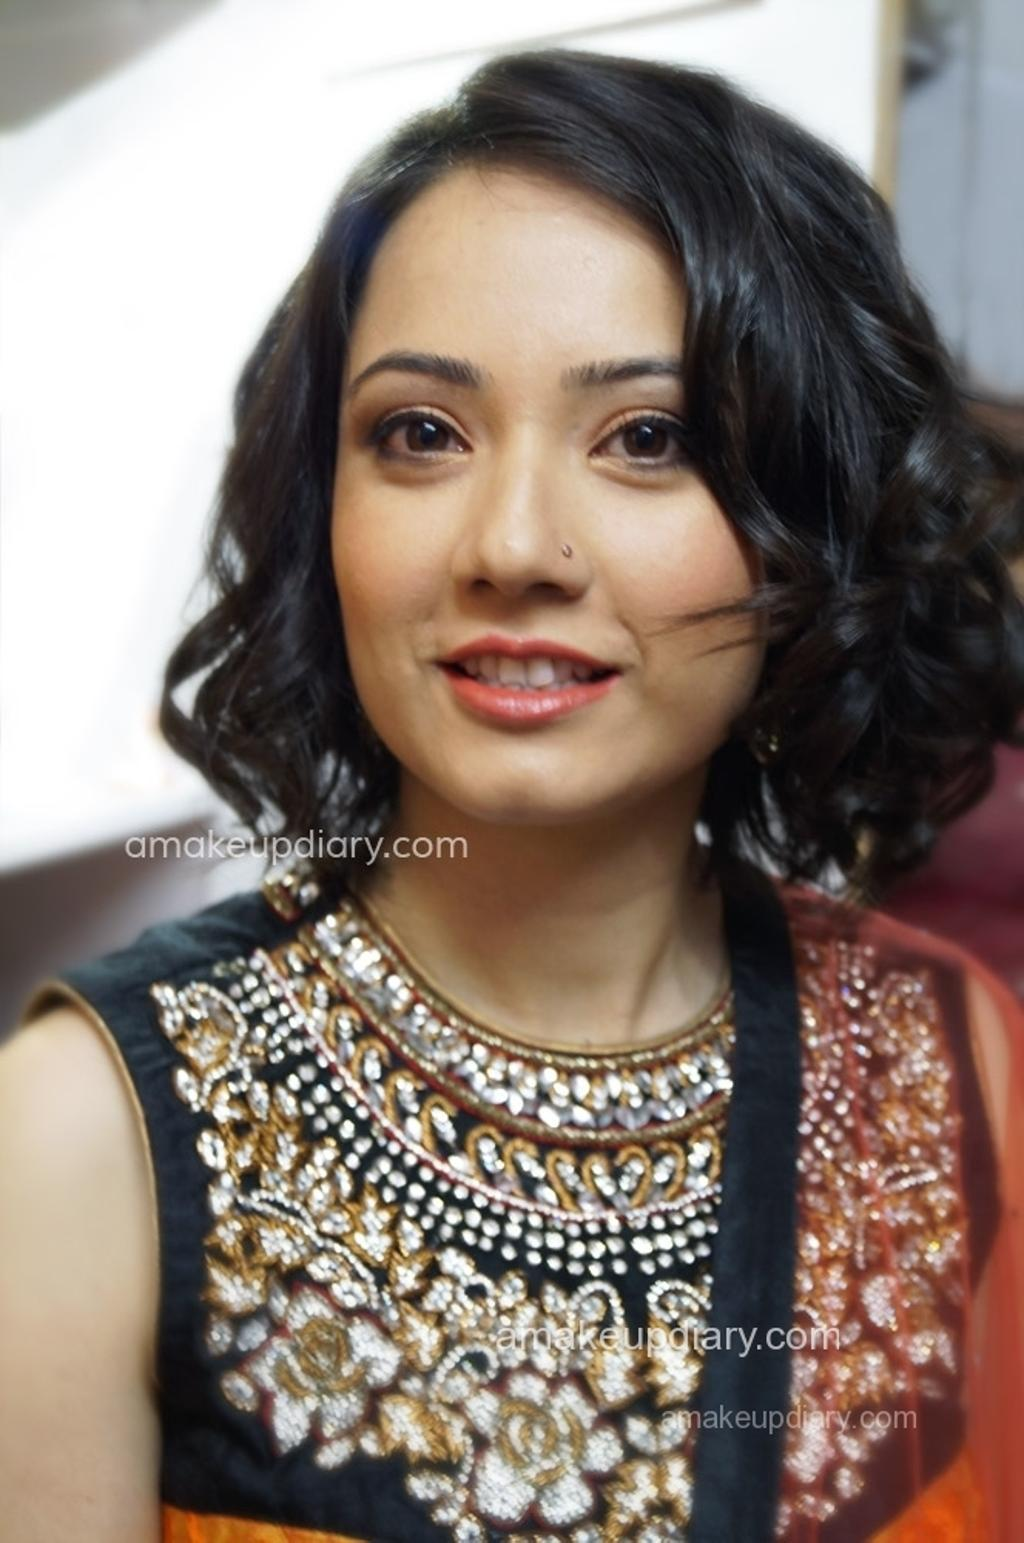face: (341, 179, 787, 821)
